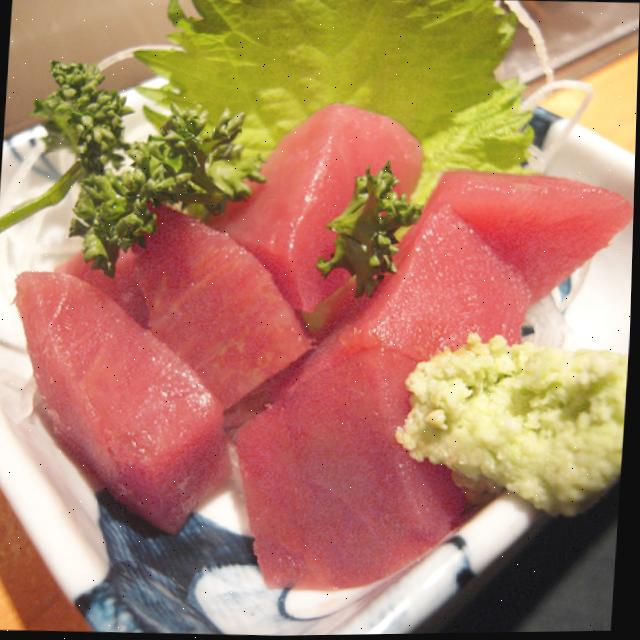刺身生食: (0, 34, 639, 627)
